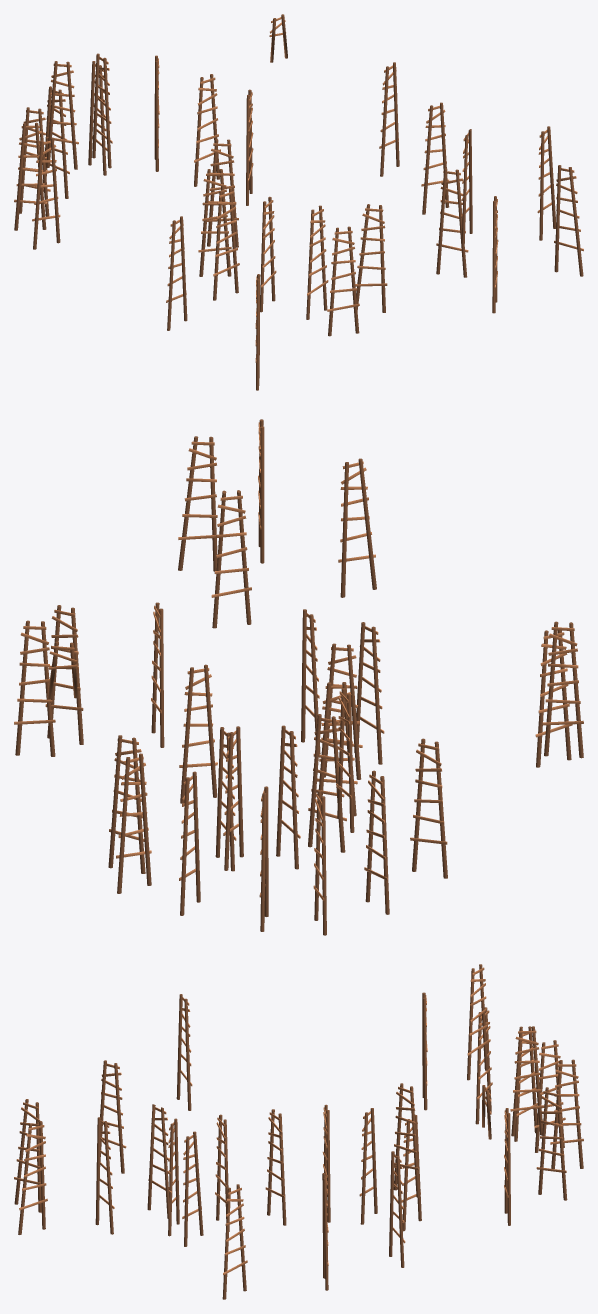
The model's file is SoporteCircuito.fbx.
The picture shows the model from 3 angles, top to bottom: view 1: azimuth 30°, elevation 25°; view 2: azimuth 150°, elevation 25°; view 3: azimuth 270°, elevation 25°; orthographic projection. The views are drawn at different scales.
Parts seen in each view (by area): view 1: Cube.040; view 2: Cube.040; view 3: Cube.040.
Part boxes in pixels (bbox=[...]): Cube.040: bbox=[14, 14, 583, 390]; Cube.040: bbox=[14, 419, 583, 935]; Cube.040: bbox=[14, 964, 583, 1299].
Bounding box in the file's own units: 22178 × 11586 × 29235.
